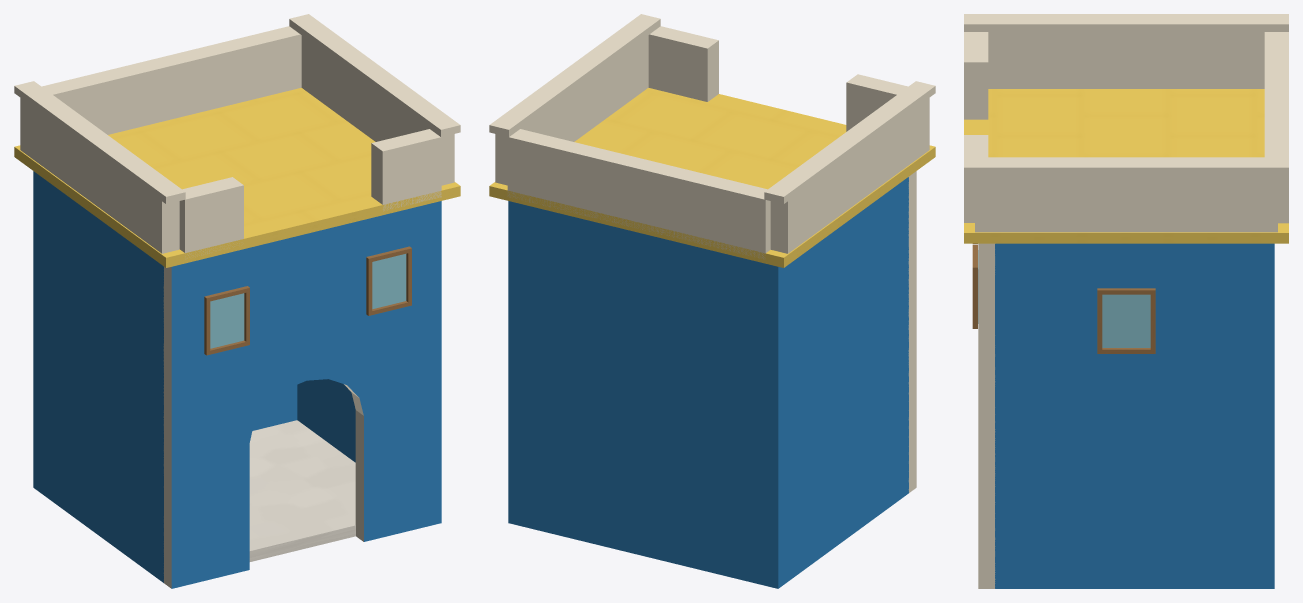
The model's file is town_house_blue.glb.
The picture shows the model from 3 angles, left to right: view 1: azimuth 30°, elevation 25°; view 2: azimuth 150°, elevation 25°; view 3: azimuth 270°, elevation 25°; orthographic projection. The views are drawn at different scales.
Visible parts, largest first — view 1: beach_town_house_blue; view 2: beach_town_house_blue; view 3: beach_town_house_blue.
Boxes of the visible parts, x1,y1,x2,y2 form: beach_town_house_blue: (14, 14, 460, 588); beach_town_house_blue: (489, 14, 935, 588); beach_town_house_blue: (964, 14, 1288, 588).
Size of the model in its own units: 4.2 by 5.45 by 3.75.
1 material, 1 textured.
